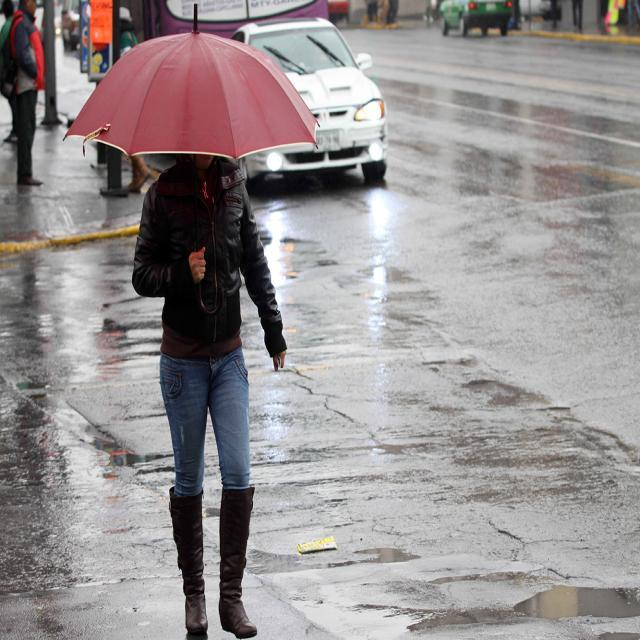person: (130, 155, 293, 640)
